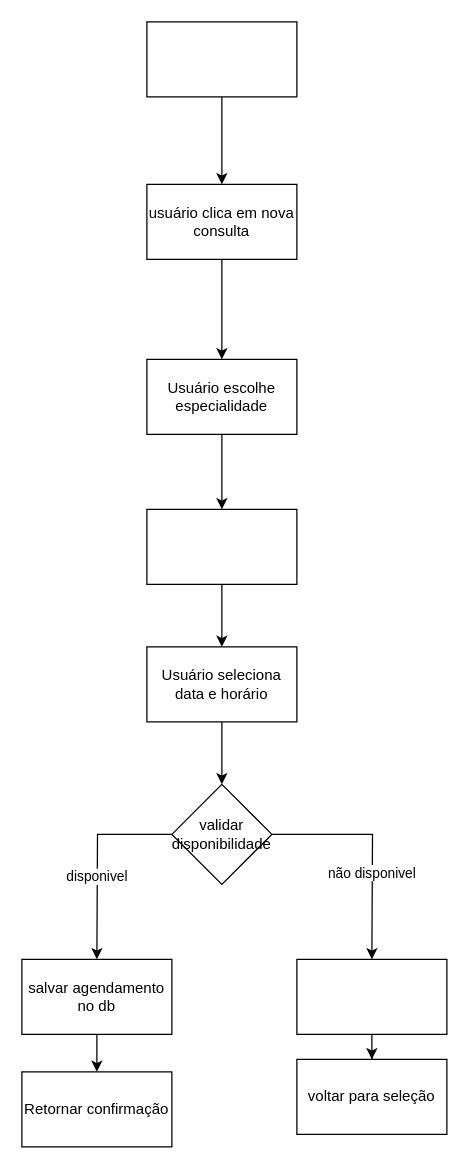
This 469x1169 diagram has some shape labels left out. The shapes that lost their labels are listed below. From the top down, each one's centre as x and y in pixels, then its label:
the point at 221,59: Usuário acessa aplicação
the point at 221,546: Usuário escolhe unidade
the point at 371,996: exibir erro
